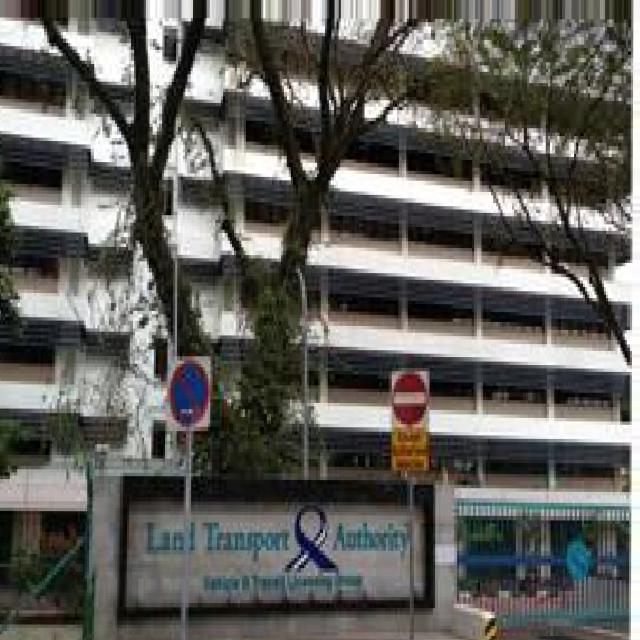forb_stopping: (169, 360, 209, 425)
